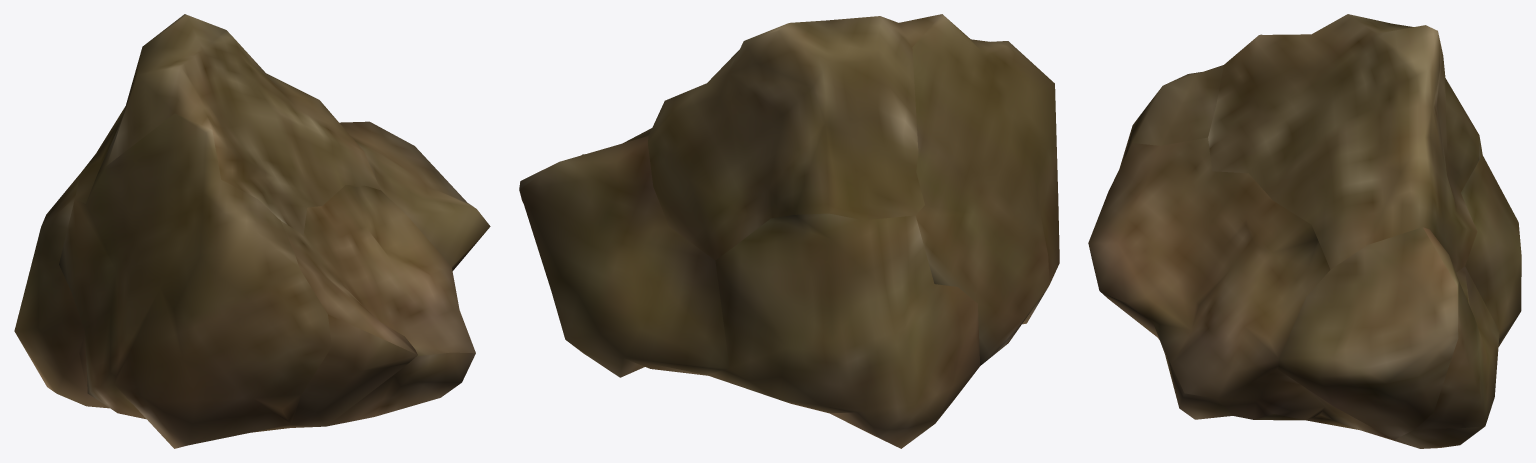
3 renders of one model, left to right at view 1: azimuth 30°, elevation 25°; view 2: azimuth 150°, elevation 25°; view 3: azimuth 270°, elevation 25°, orthographic. The views are drawn at different scales.
Visible parts, largest first — view 1: rock_moss_set_01__d_lod2; view 2: rock_moss_set_01__d_lod2; view 3: rock_moss_set_01__d_lod2.
Part boxes in pixels (x1,y1,x2,y2): rock_moss_set_01__d_lod2: (14,14,490,448); rock_moss_set_01__d_lod2: (519,14,1059,448); rock_moss_set_01__d_lod2: (1088,14,1521,448).
Size of the model in its own units: 2.11 by 1.76 by 1.94.
Materials: 1 (1 with a texture image).
